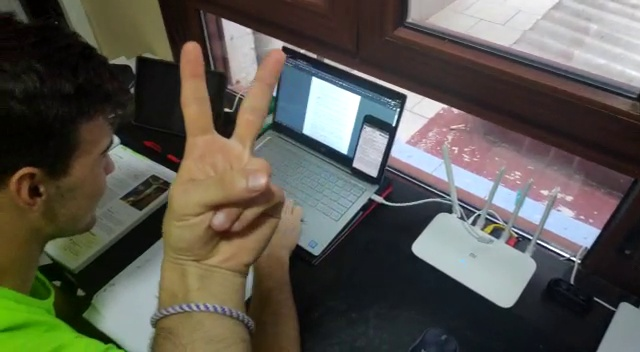Peace: (161, 40, 299, 269)
